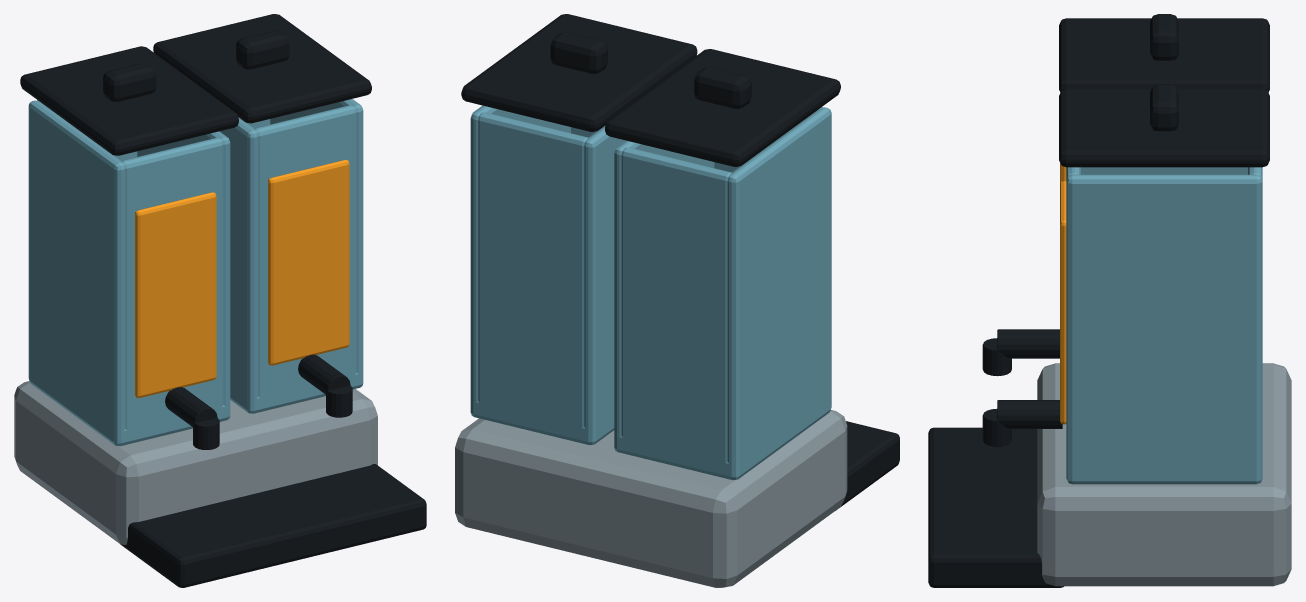
3 renders of one model, left to right at view 1: azimuth 30°, elevation 25°; view 2: azimuth 150°, elevation 25°; view 3: azimuth 270°, elevation 25°, orthographic. The views are drawn at different scales.
Parts seen in each view (by area): view 1: BASE, TANK_FrostedSide, DRIP_Tray, CONTENTS_Indicator.001, CONTENTS_Indicator, LID, LID.001, TANK_FrostedEnd, TANK_FrostedEnd.002, TANK_FrostedSide.002, TANK_FrostedSide.003, TANK_FrostedSide.001 (+8 smaller); view 2: BASE, TANK_FrostedEnd.001, TANK_FrostedEnd.003, TANK_FrostedSide, LID, LID.001, TANK_FrostedSide.002, TANK_FrostedBase, TANK_FrostedSide.003, DRIP_Tray, TANK_FrostedSide.001, TANK_FrostedBase.001 (+2 smaller); view 3: TANK_FrostedSide.003, BASE, DRIP_Tray, LID.001, LID, TANK_FrostedBase.001, TAP_Spout, TAP_Spout.001, CONTENTS_Indicator, TANK_FrostedSide.002, LID_Handle.001, LID_Handle (+2 smaller).
Part boxes in pixels (<box>): BASE: <box>14,381,377,544</box>; TANK_FrostedSide: <box>28,100,124,431</box>; DRIP_Tray: <box>120,464,426,587</box>; CONTENTS_Indicator.001: <box>135,192,216,397</box>; CONTENTS_Indicator: <box>268,160,349,365</box>; LID: <box>20,46,238,155</box>; LID.001: <box>153,14,371,123</box>; TANK_FrostedEnd: <box>121,137,223,430</box>; TANK_FrostedEnd.002: <box>254,105,356,397</box>; TANK_FrostedSide.002: <box>220,117,257,399</box>; TANK_FrostedSide.003: <box>270,99,363,374</box>; TANK_FrostedSide.001: <box>137,131,230,406</box>; BASE: <box>455,410,847,587</box>; TANK_FrostedEnd.001: <box>621,147,731,463</box>; TANK_FrostedEnd.003: <box>478,112,588,427</box>; TANK_FrostedSide: <box>727,107,831,465</box>; LID: <box>605,49,840,166</box>; LID.001: <box>461,14,697,131</box>; TANK_FrostedSide.002: <box>584,125,625,429</box>; TANK_FrostedBase: <box>614,395,831,480</box>; TANK_FrostedSide.003: <box>470,105,570,402</box>; DRIP_Tray: <box>836,421,899,510</box>; TANK_FrostedSide.001: <box>614,140,714,437</box>; TANK_FrostedBase.001: <box>470,400,614,445</box>; TANK_FrostedSide.003: <box>1066,174,1262,469</box>; BASE: <box>1037,363,1291,586</box>; DRIP_Tray: <box>928,427,1063,587</box>; LID.001: <box>1059,89,1269,167</box>; LID: <box>1059,18,1269,92</box>; TANK_FrostedBase.001: <box>1066,466,1262,484</box>; TAP_Spout: <box>997,329,1059,358</box>; TAP_Spout.001: <box>997,400,1062,428</box>; CONTENTS_Indicator: <box>1060,181,1066,424</box>; TANK_FrostedSide.002: <box>1081,167,1247,174</box>; LID_Handle.001: <box>1150,84,1178,131</box>; LID_Handle: <box>1150,14,1178,60</box>.
Size of the model in its own units: 0.45 by 0.7075 by 0.5.
